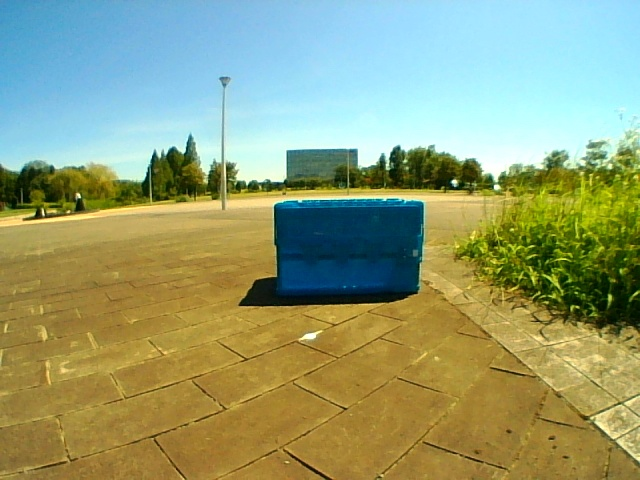blue_box: (277, 200, 419, 290)
